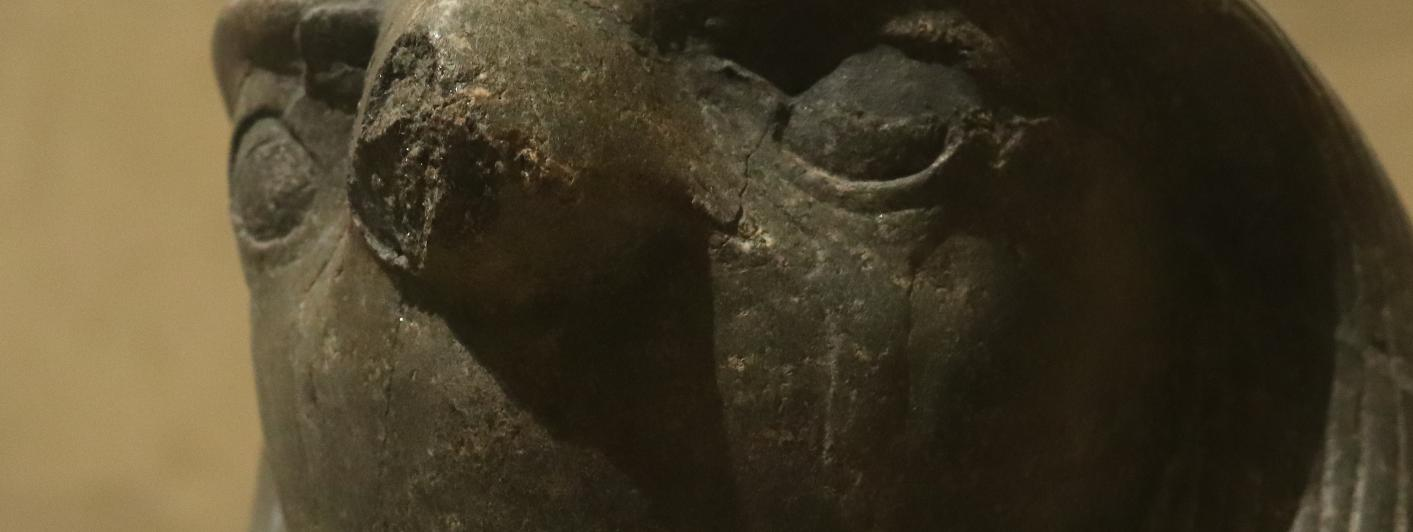Ra_Horakhty: (102, 0, 1413, 532)
